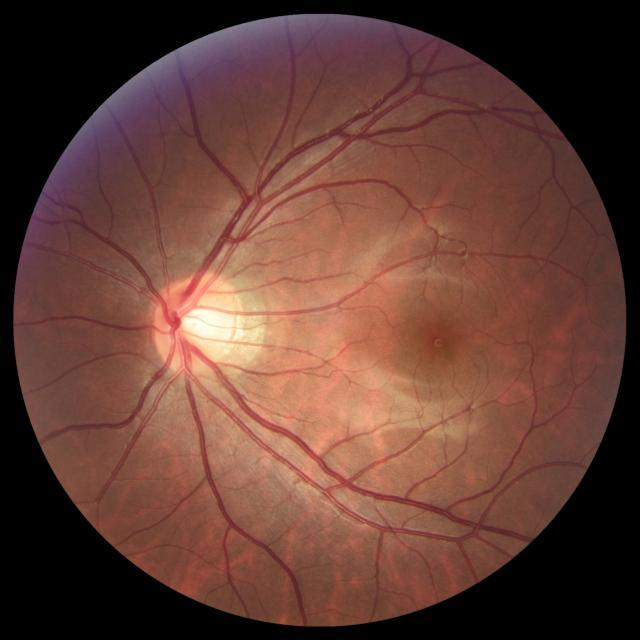OC: (172, 296, 222, 346)
OD: (152, 274, 242, 374)
